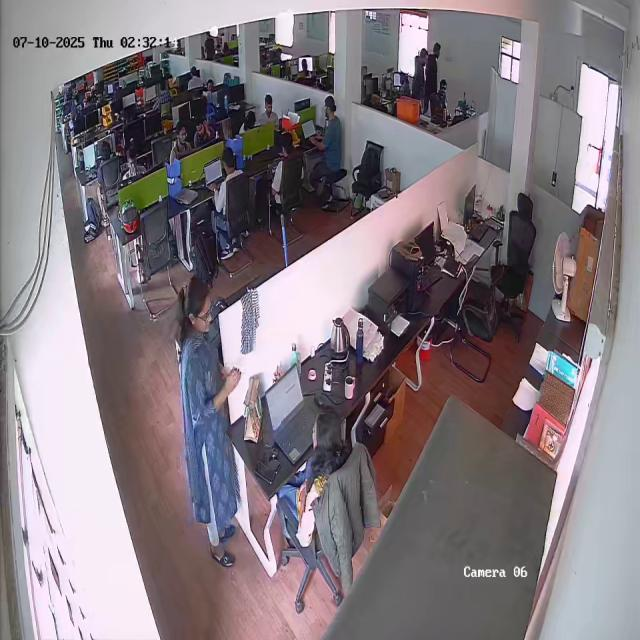person: (169, 275, 241, 569), (321, 94, 346, 174)
